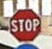stop: (9, 7, 41, 41)
